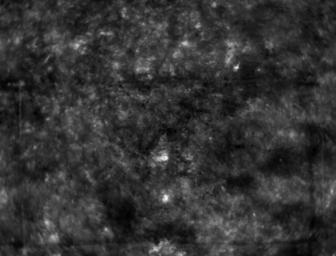landmine: (154, 149, 172, 167)
